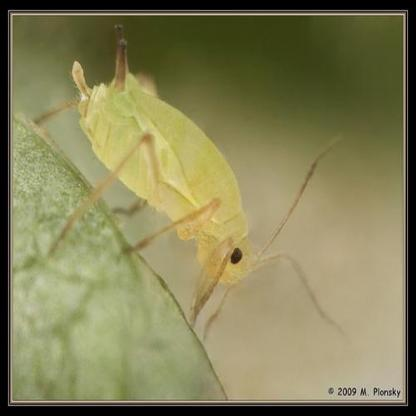aphid: (45, 25, 331, 326)
